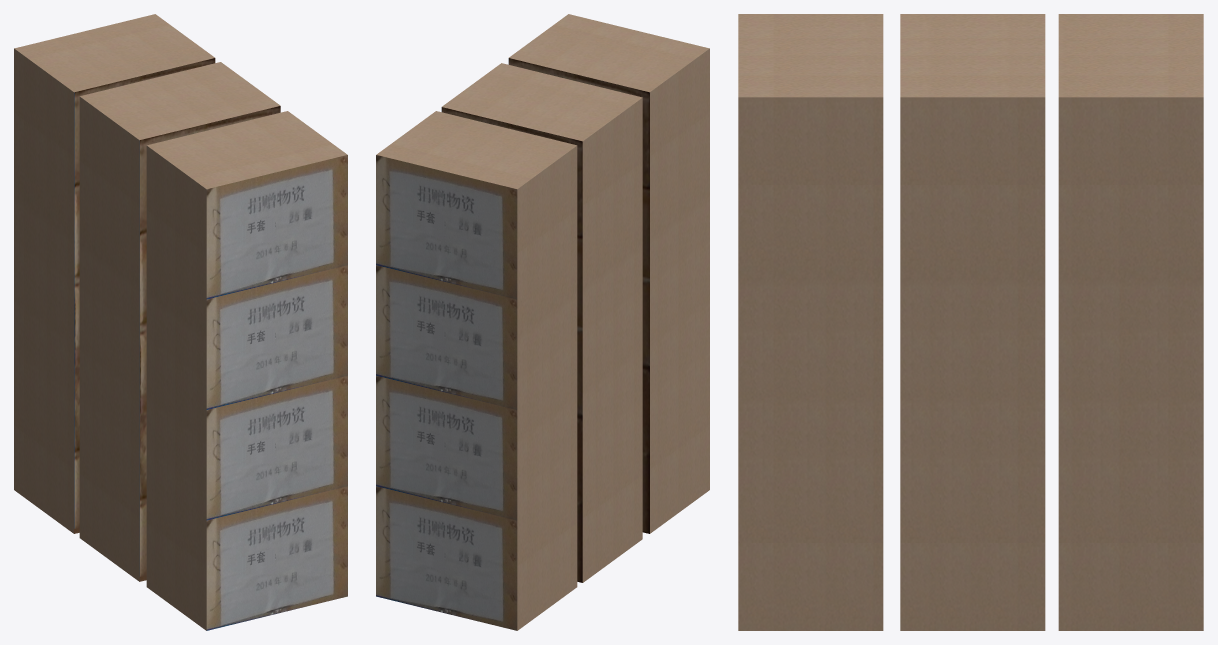
The model's file is shoutao.FBX.
3 views of the same model, side by side, from view 1: azimuth 30°, elevation 25°; view 2: azimuth 150°, elevation 25°; view 3: azimuth 270°, elevation 25° (orthographic). The views are drawn at different scales.
Parts seen in each view (by area): view 1: Box3834; view 2: Box3834; view 3: Box3834.
Boxes of the visible parts, <box> form: Box3834: <box>14,14,347,630</box>; Box3834: <box>376,14,709,630</box>; Box3834: <box>738,14,1203,630</box>.
Bounding box in the file's own units: 0.3925 × 0.926 × 1.17.
